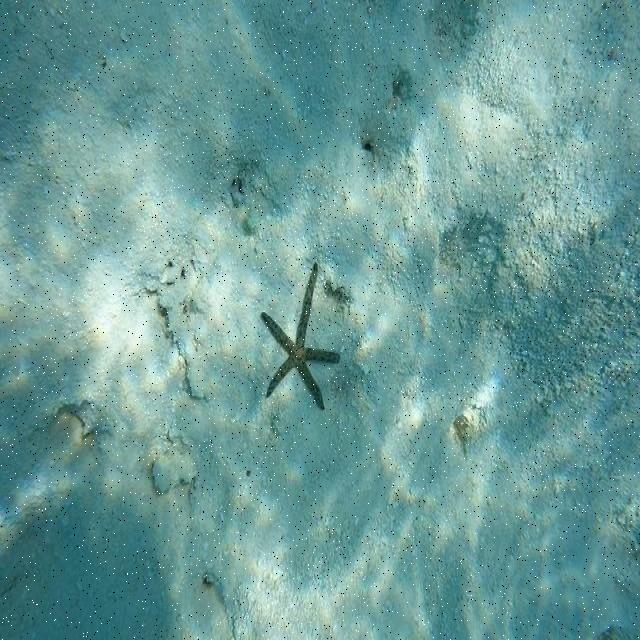reefs: (262, 266, 341, 414)
